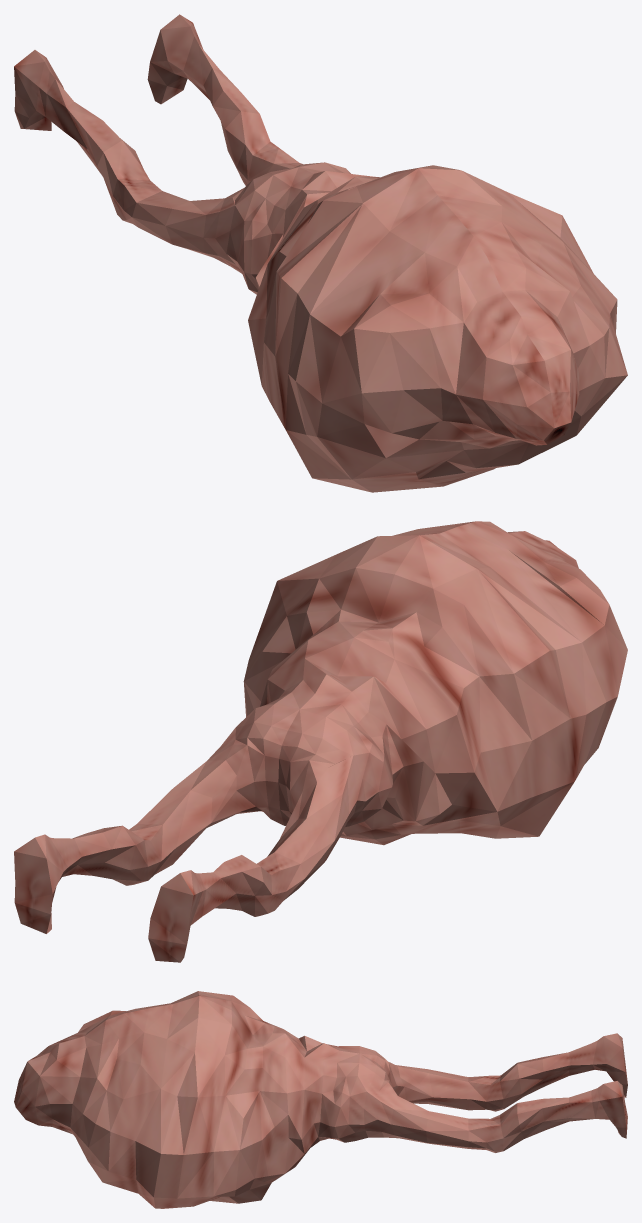
File: fleshbeastboned_wtf.obj
3 renders of one model, top to bottom at view 1: azimuth 30°, elevation 25°; view 2: azimuth 150°, elevation 25°; view 3: azimuth 270°, elevation 25°, orthographic. The views are drawn at different scales.
Visible parts, largest first — view 1: group1; view 2: group1; view 3: group1.
Boxes of the visible parts, x1,y1,x2,y2 form: group1: (14,14,627,492); group1: (14,521,627,962); group1: (14,991,627,1208).
Size of the model in its own units: 272 by 239 by 660.
